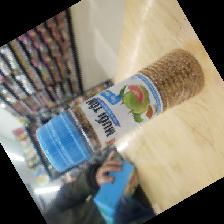TayNinh_blue: (34, 48, 207, 172)
